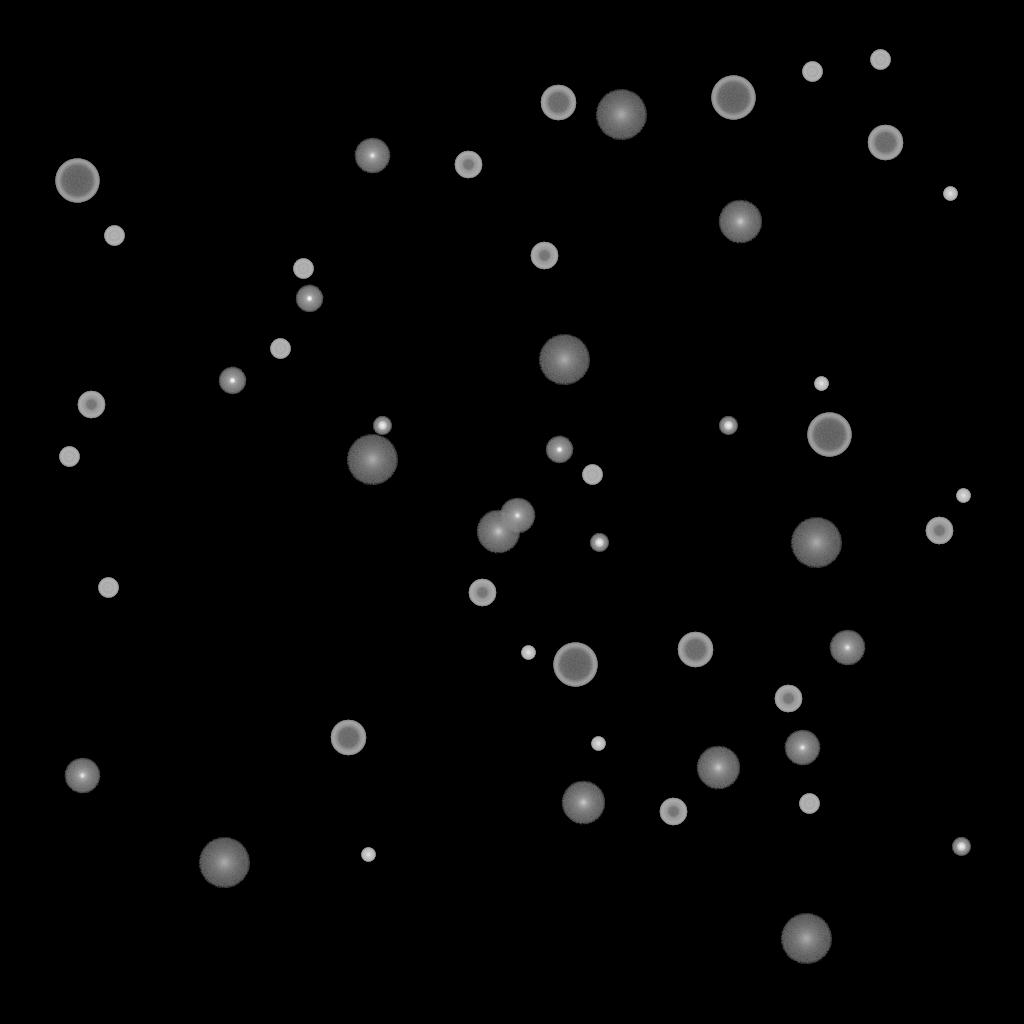depth:-10: (295, 285, 323, 313), (545, 436, 573, 464), (218, 367, 246, 395)
depth:-20: (952, 838, 970, 856), (373, 417, 391, 435), (719, 417, 737, 435), (590, 534, 608, 552)
depth:-30: (591, 737, 605, 751), (521, 646, 535, 660), (956, 489, 970, 503), (943, 187, 957, 201), (361, 848, 375, 862), (814, 377, 828, 391)
depth:-40: (104, 226, 124, 246), (870, 50, 890, 70), (270, 339, 290, 359), (59, 447, 79, 467), (802, 62, 822, 82), (98, 578, 118, 598), (799, 794, 819, 814), (582, 465, 602, 485), (293, 259, 313, 279)
depth:-50: (925, 517, 953, 545), (774, 685, 802, 713), (530, 242, 558, 270), (468, 579, 496, 607), (454, 151, 482, 179), (659, 798, 687, 826), (77, 391, 105, 419)
depth:-60: (867, 125, 903, 161), (330, 720, 366, 756), (677, 632, 713, 668), (540, 85, 576, 121)
depth:-70: (711, 76, 755, 120), (553, 643, 597, 687), (55, 159, 99, 203), (807, 413, 851, 457)
depth:0: (354, 138, 390, 174), (64, 758, 100, 794), (829, 630, 865, 666), (784, 730, 820, 766), (499, 498, 535, 534)
depth:10: (561, 781, 605, 825), (696, 746, 740, 790), (476, 510, 520, 554), (718, 200, 762, 244)
depth:20: (198, 838, 250, 888), (538, 335, 590, 385), (790, 518, 842, 568), (780, 914, 832, 964), (595, 90, 647, 140), (346, 435, 398, 485)
